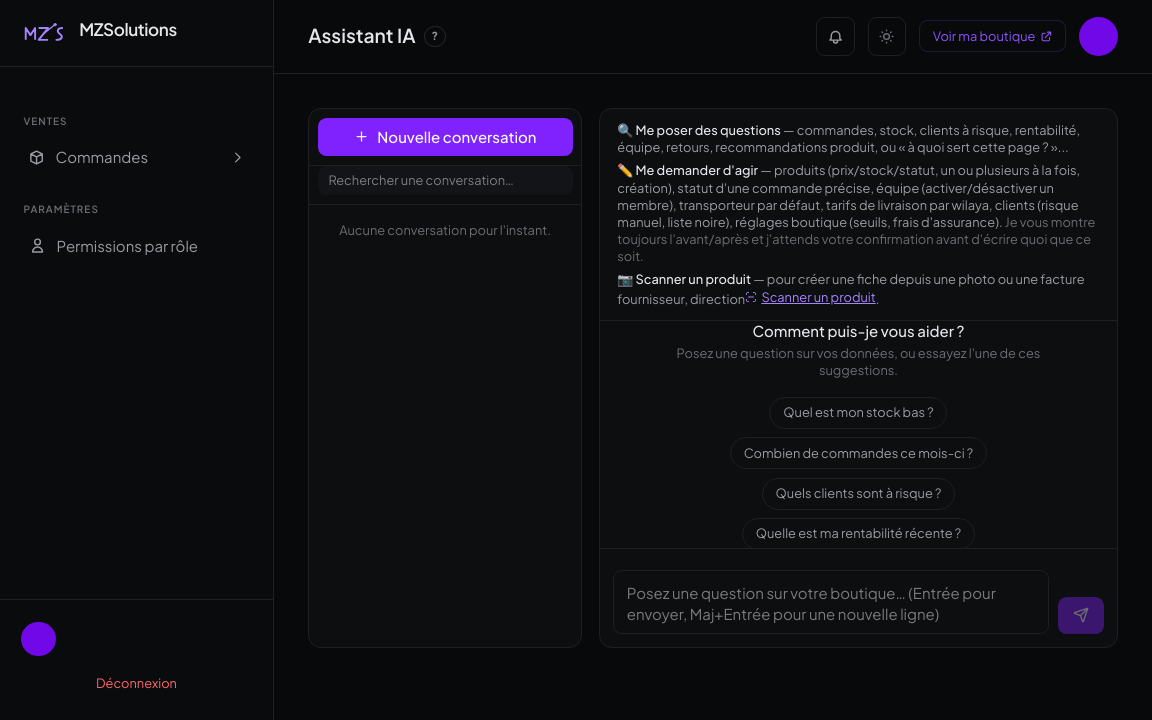
it: AIAssistantPage › affiche le champ de saisie et envoie un message
(page scrolled)
Replace the text in the text box with placeholder "Posez une question" with "Combien de commandes ce mois-ci ?". click: (831, 602)
box: [613,570,1050,634]
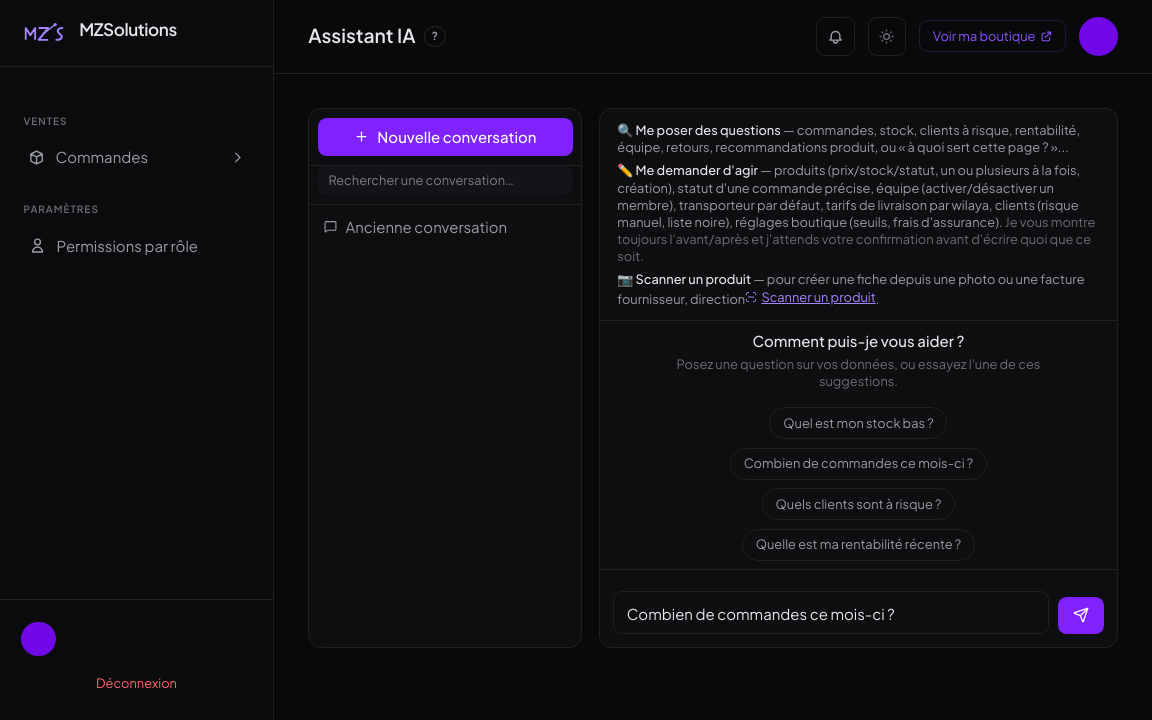
Click the button named "envoyer". click: (1081, 616)
box: [1058,597,1104,634]
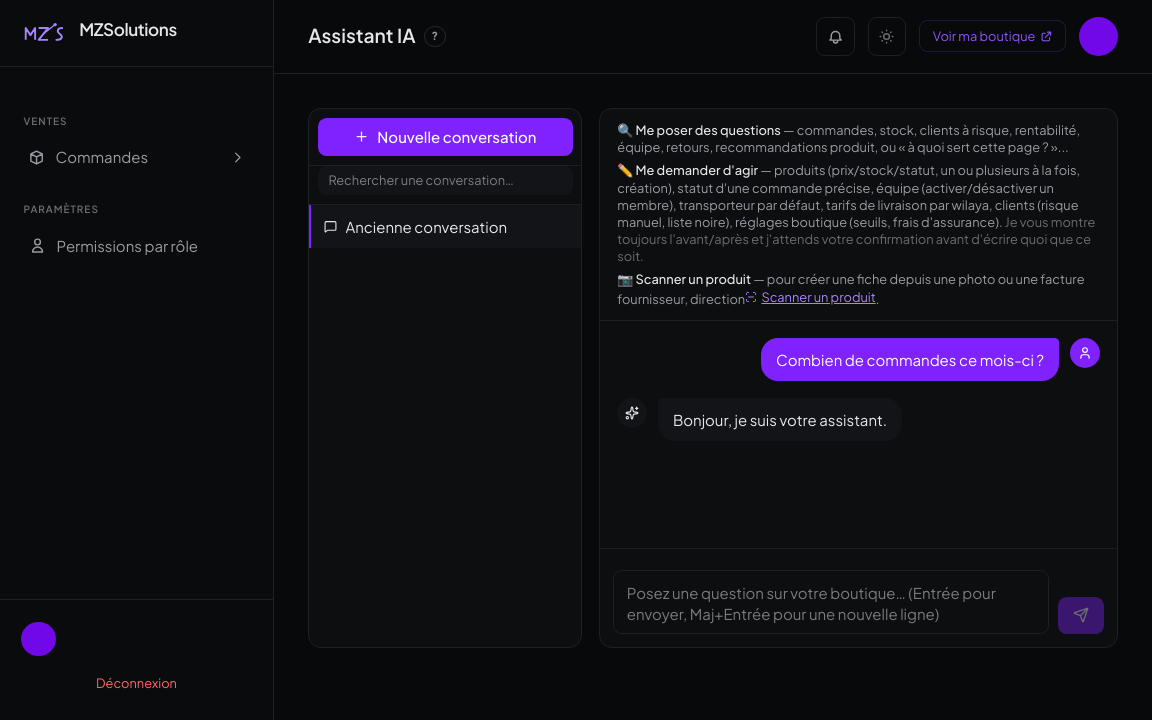
Result: the text "Bonjour, je suis votre assistant." is shown at [673,409,887,430]
